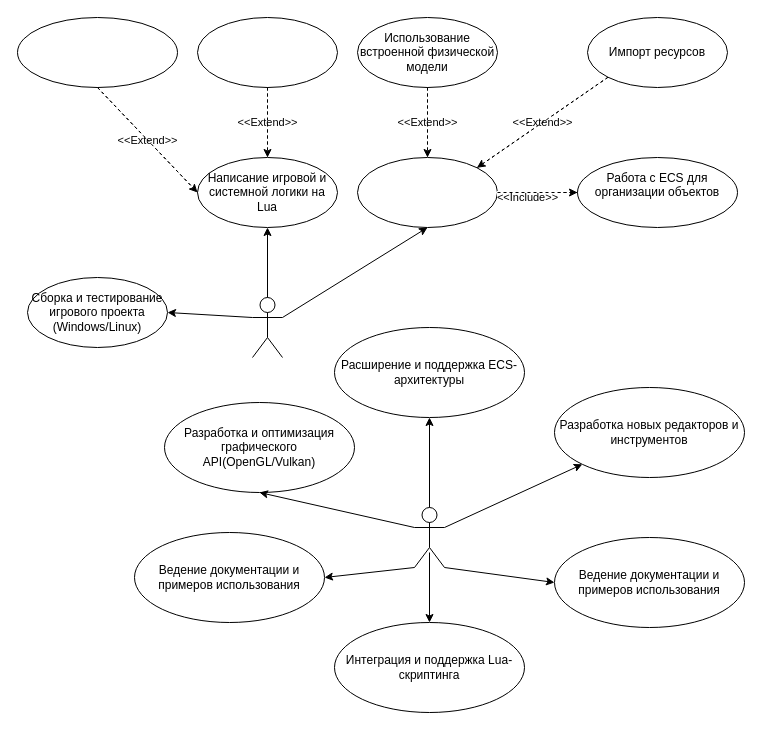
The diagram is 762 pixels wide and 730 high, and some of its shapes have lost their labels. Each missing label, with the centre of its shape:
"Использование ECS" belongs at point 97,52.
"Подключение расширений и сторонних библиотек" belongs at point 267,52.
"Разработчик движка" belongs at point 429,537.
"Разработчик игр" belongs at point 267,327.
"Создание сцен через специфичный редактор" belongs at point 427,192.
